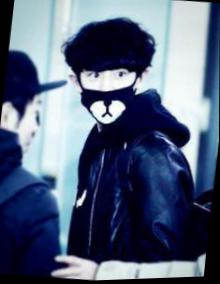NONE: (1, 100, 45, 164)
WRONG: (74, 60, 139, 126)
